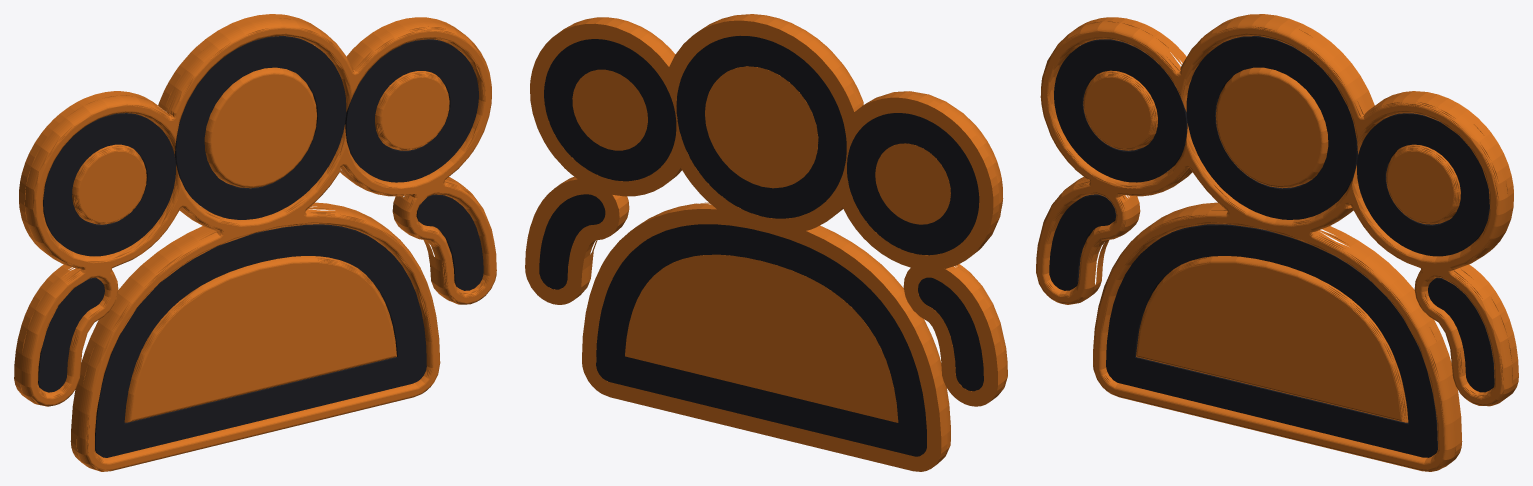
File: buddies_t1.glb
3 renders of one model, left to right at view 1: azimuth 30°, elevation 25°; view 2: azimuth 150°, elevation 25°; view 3: azimuth 330°, elevation 25°, orthographic.
Parts seen in each view (by area): view 1: mark, mark_channel; view 2: mark, mark_channel; view 3: mark, mark_channel.
Boxes of the visible parts, x1,y1,x2,y2 form: mark: [14, 14, 496, 471]; mark_channel: [38, 36, 483, 457]; mark: [525, 14, 1007, 471]; mark_channel: [539, 35, 983, 456]; mark: [1036, 14, 1518, 471]; mark_channel: [1049, 36, 1494, 457].
Bounding box in the file's own units: 0.4999 × 0.4148 × 0.024.
